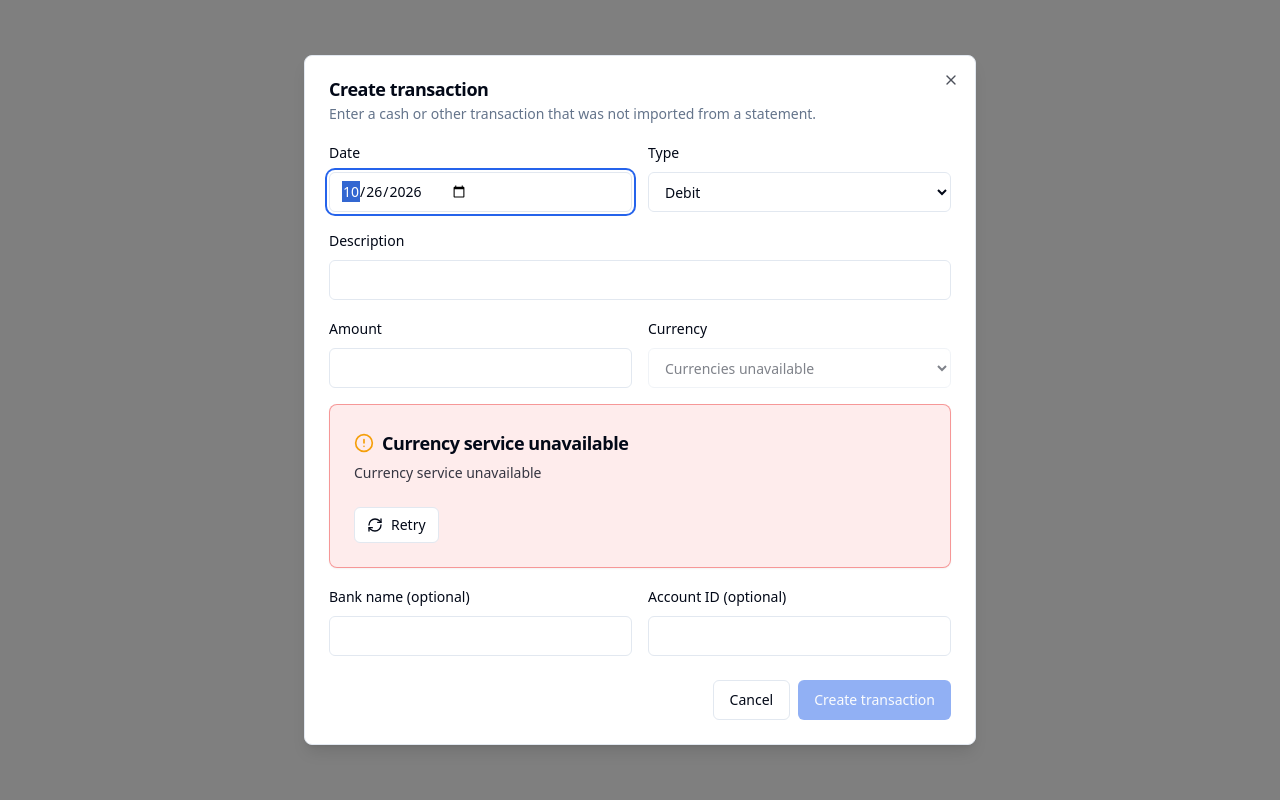
CreateTransactionDialog › keeps a first-load currency failure blocking and retries it in context
Expected: the heading "Currency service unavailable" is shown, [382, 429, 628, 457]
Expected: the dropdown labelled "Currency" is disabled, [648, 348, 951, 388]
Click the button "Retry". click: (396, 525)
box: [354, 507, 439, 543]
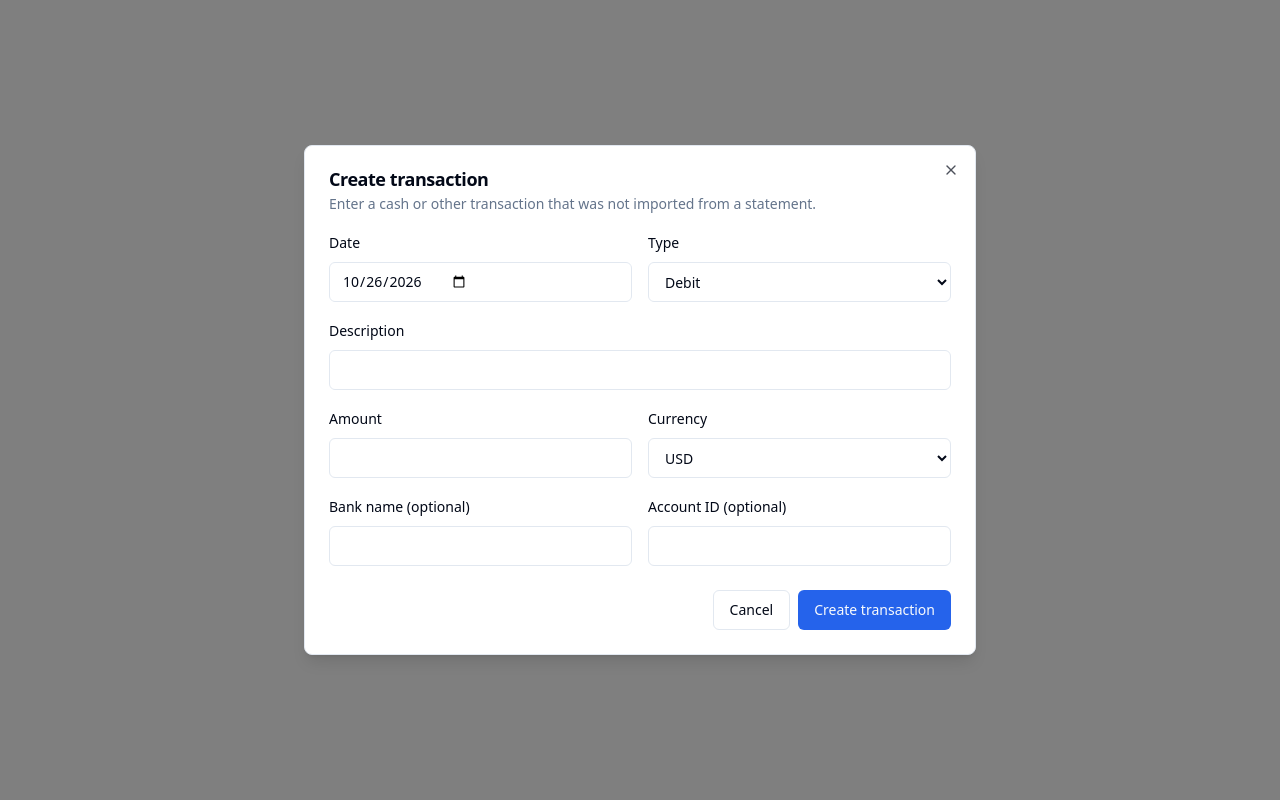
Now the dropdown labelled "Currency" is enabled, box [648, 438, 951, 478]
Now the dropdown labelled "Currency" shows "USD", box [648, 438, 951, 478]
Now the heading "Currency service unavailable" is gone
